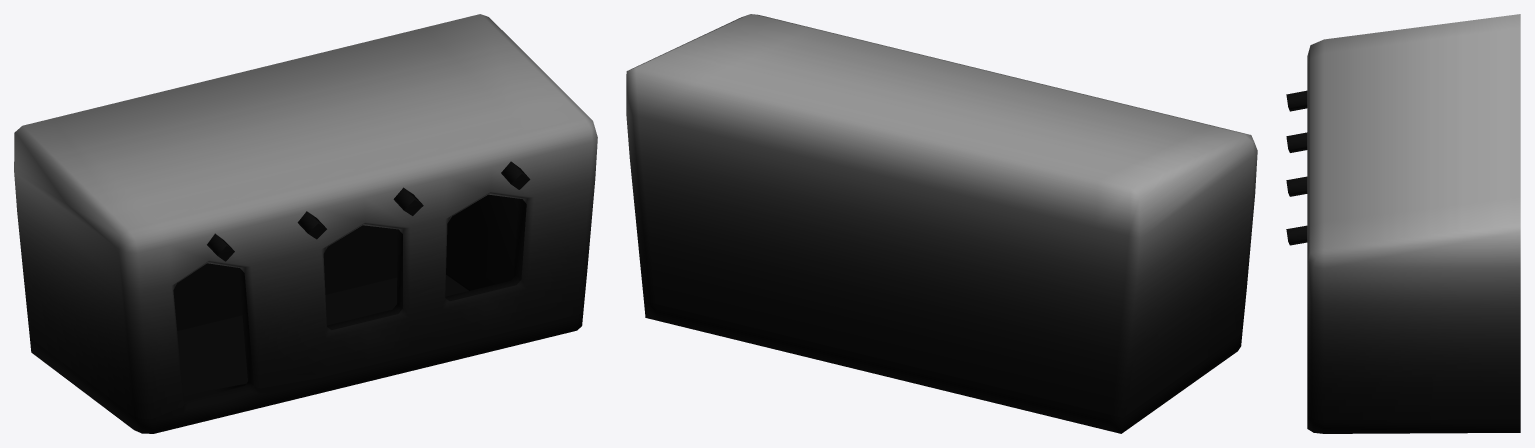
The model's file is Building9.glb.
The picture shows the model from 3 angles, left to right: view 1: azimuth 30°, elevation 25°; view 2: azimuth 150°, elevation 25°; view 3: azimuth 270°, elevation 25°; orthographic projection. The views are drawn at different scales.
Parts seen in each view (by area): view 1: Building9; view 2: Building9; view 3: Building9.
Part boxes in pixels (box(x1,y1,x2,y2)): Building9: box(14, 14, 597, 433); Building9: box(626, 14, 1257, 433); Building9: box(1286, 14, 1520, 433).
Size of what is drawn, in the model's own units: 12.96 by 5.95 by 5.91.
1 material, 1 textured.
